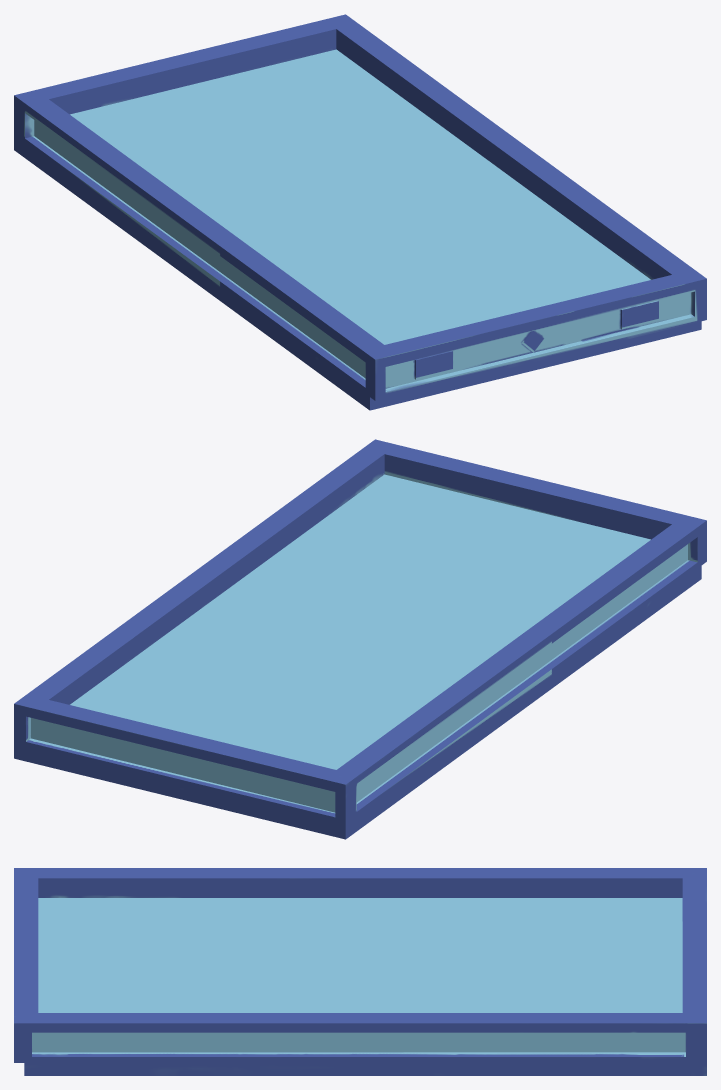
Rendered from roof 1.fbx.
The picture shows the model from 3 angles, top to bottom: view 1: azimuth 30°, elevation 25°; view 2: azimuth 150°, elevation 25°; view 3: azimuth 270°, elevation 25°; orthographic projection. The views are drawn at different scales.
Visible parts, largest first — view 1: toit_4:toiture_3_LD; view 2: toit_4:toiture_3_LD; view 3: toit_4:toiture_3_LD.
Part boxes in pixels (bbox=[...]): toit_4:toiture_3_LD: bbox=[14, 14, 706, 410]; toit_4:toiture_3_LD: bbox=[14, 439, 706, 839]; toit_4:toiture_3_LD: bbox=[14, 868, 706, 1075].
Bounding box in the file's own units: 4292 × 678 × 8092.
